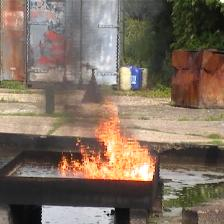fire: (58, 96, 156, 181)
